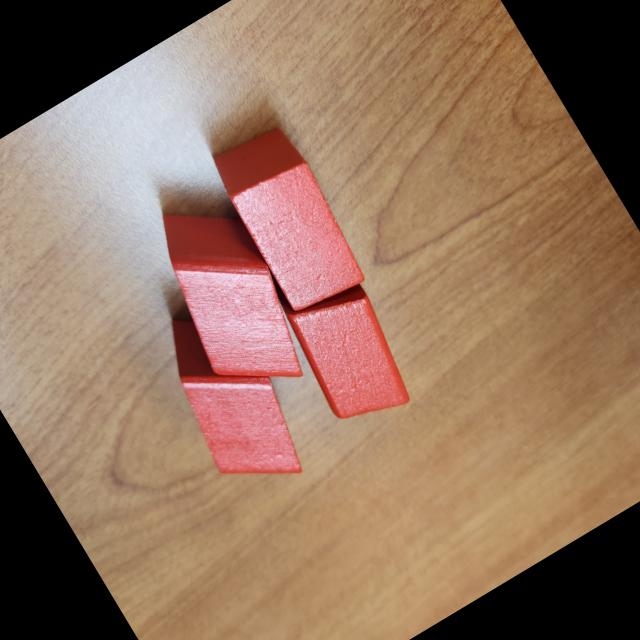red: (132, 181, 326, 413), (138, 290, 321, 511), (198, 114, 376, 322), (277, 272, 428, 439)
